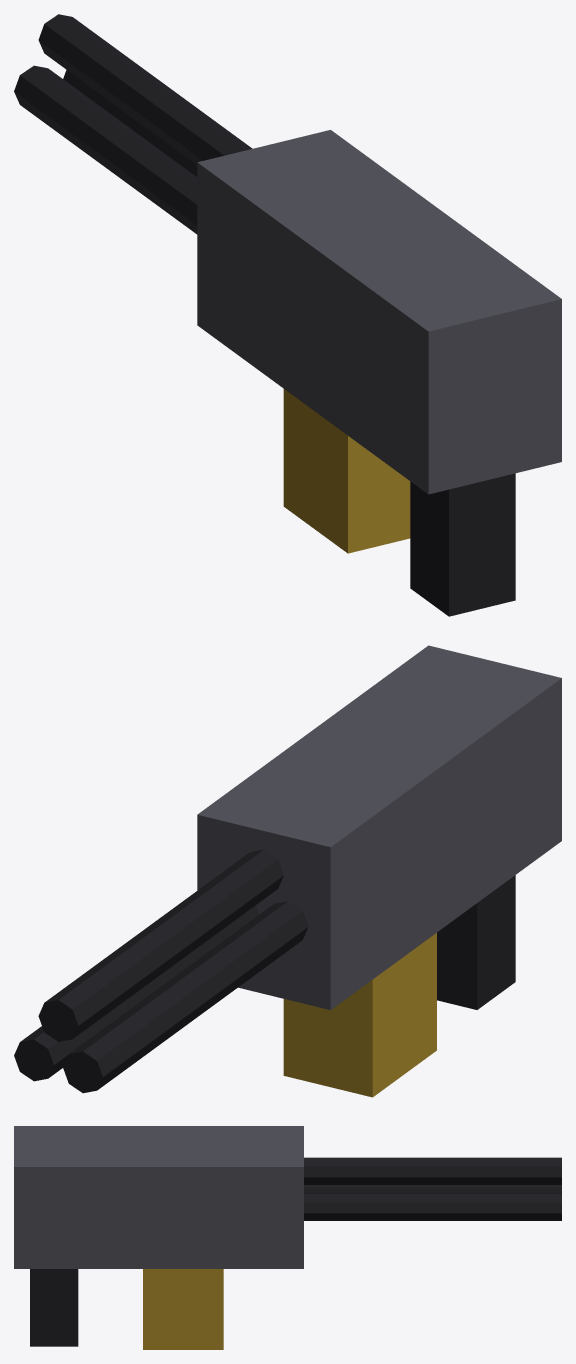
The picture shows the model from 3 angles, top to bottom: view 1: azimuth 30°, elevation 25°; view 2: azimuth 150°, elevation 25°; view 3: azimuth 270°, elevation 25°; orthographic projection. The views are drawn at different scales.
Visible parts, largest first — view 1: mg, laeufe; view 2: mg, laeufe; view 3: mg, laeufe.
Part boxes in pixels (box(x1,y1,x2,y2)): mg: box(197, 130, 561, 616); laeufe: box(14, 14, 252, 234); mg: box(197, 645, 561, 1097); laeufe: box(14, 849, 308, 1093); mg: box(14, 1126, 303, 1349); laeufe: box(304, 1157, 561, 1220).
Bounding box in the file's own units: 0.06 × 0.13 × 0.34.
